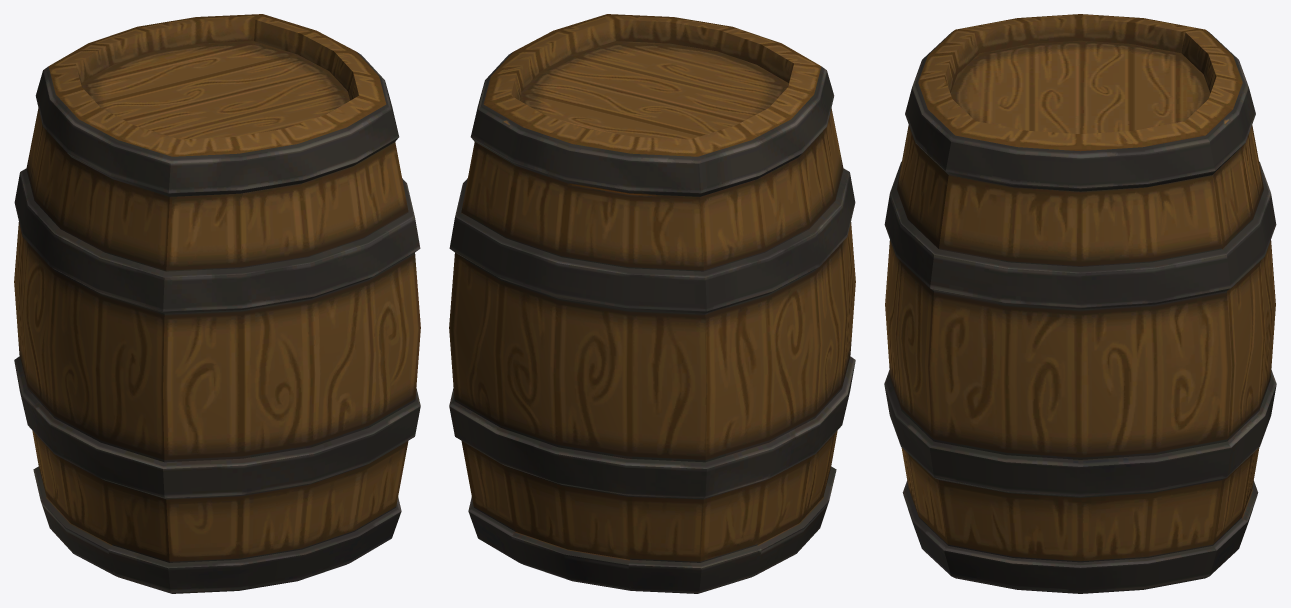
Rendered from barrel.glb.
3 views of the same model, side by side, from view 1: azimuth 30°, elevation 25°; view 2: azimuth 150°, elevation 25°; view 3: azimuth 270°, elevation 25° (orthographic).
Visible parts, largest first — view 1: WineBarrel_LOD0; view 2: WineBarrel_LOD0; view 3: WineBarrel_LOD0.
Boxes of the visible parts, x1=… form: WineBarrel_LOD0: x1=14, y1=14, x2=420, y2=593; WineBarrel_LOD0: x1=449, y1=14, x2=855, y2=593; WineBarrel_LOD0: x1=884, y1=14, x2=1276, y2=593.
Size of the model in its own units: 0.7369 by 0.9296 by 0.7369.
Materials: 1 (1 with a texture image).
